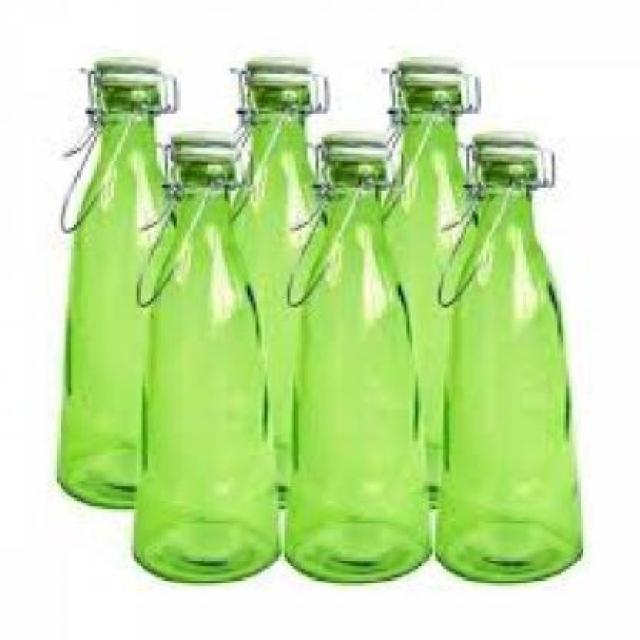kaca: (432, 137, 580, 580), (282, 137, 429, 577), (131, 154, 275, 577), (57, 83, 174, 503), (385, 77, 472, 509), (228, 80, 315, 509)
